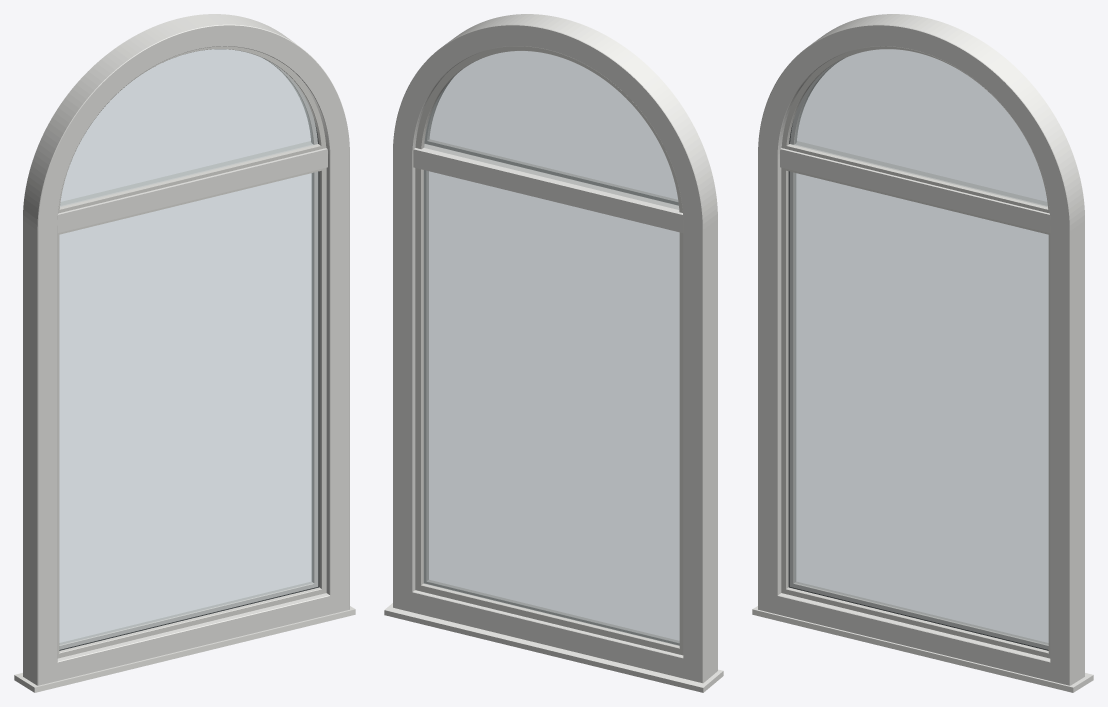
Rendered from special-arch.glb.
The picture shows the model from 3 angles, left to right: view 1: azimuth 30°, elevation 25°; view 2: azimuth 150°, elevation 25°; view 3: azimuth 330°, elevation 25°; orthographic projection.
Parts seen in each view (by area): view 1: glass_lower, frame, glass_upper, glazing_bead, transom_bar, glazing_rebate, frame_sill_nose, transom_bead, gasket_ext; view 2: glass_lower, frame, glass_upper, glazing_rebate, transom_bar, glazing_bead, frame_sill_nose, transom_bead; view 3: glass_lower, frame, glass_upper, glazing_bead, transom_bar, glazing_rebate, frame_sill_nose, transom_bead, gasket_ext.
Part boxes in pixels (x1,y1,x2,y2): glass_lower: (59, 171, 318, 650); frame: (23, 14, 349, 685); glass_upper: (60, 49, 318, 206); glazing_bead: (57, 46, 326, 658); transom_bar: (57, 141, 327, 232); glazing_rebate: (59, 58, 318, 649); frame_sill_nose: (14, 606, 355, 692); transom_bead: (58, 144, 326, 234); gasket_ext: (59, 123, 319, 650); glass_lower: (423, 170, 679, 645); frame: (393, 14, 717, 683); glass_upper: (424, 51, 678, 209); glazing_rebate: (415, 46, 683, 655); transom_bar: (413, 144, 683, 232); glazing_bead: (424, 79, 679, 645); frame_sill_nose: (384, 603, 723, 692); transom_bead: (424, 139, 678, 205); glass_lower: (789, 171, 1048, 650); frame: (758, 14, 1084, 685); glass_upper: (789, 49, 1047, 206); glazing_bead: (781, 46, 1050, 658); transom_bar: (780, 141, 1050, 232); glazing_rebate: (789, 58, 1048, 649); frame_sill_nose: (752, 606, 1093, 692); transom_bead: (782, 144, 1050, 234); gasket_ext: (788, 123, 1048, 650).
Size of the model in its own units: 1.03 by 1.92 by 0.1148.
